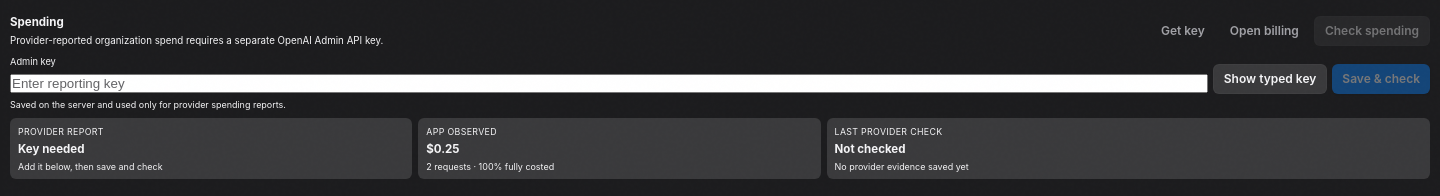
ProviderSpendingCard › lets the user save and check an admin reporting key entirely in the UI
The image size is (1440, 196).
Check: the button "Save & check" is disabled, box [1332,64,1430,94]
Type "admin-key-from-ui" into the password field labelled "Admin key" at coordinates (609, 84), box [10,74,1208,93]
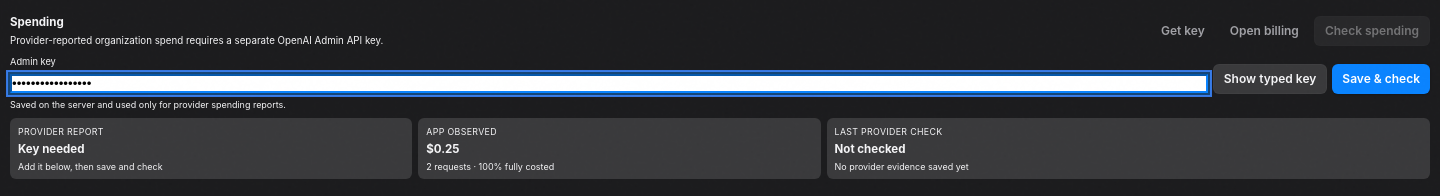
Click the button "Save & check" at coordinates (1381, 78), box [1332,64,1430,94]
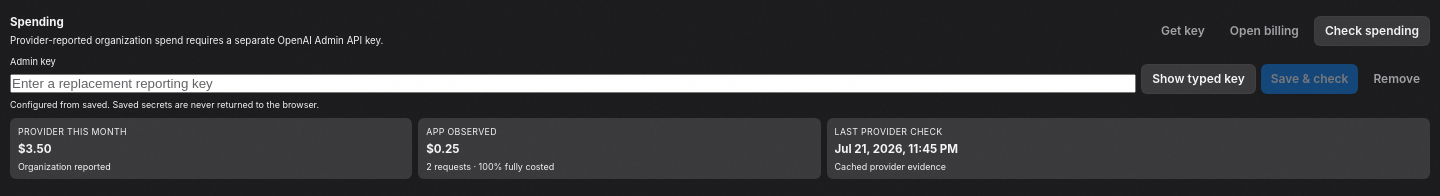
Check: the text "$3.50" is shown, box [18,142,51,156]
Check: the text "Saved secrets are never returned" is shown, box [10,98,319,110]
